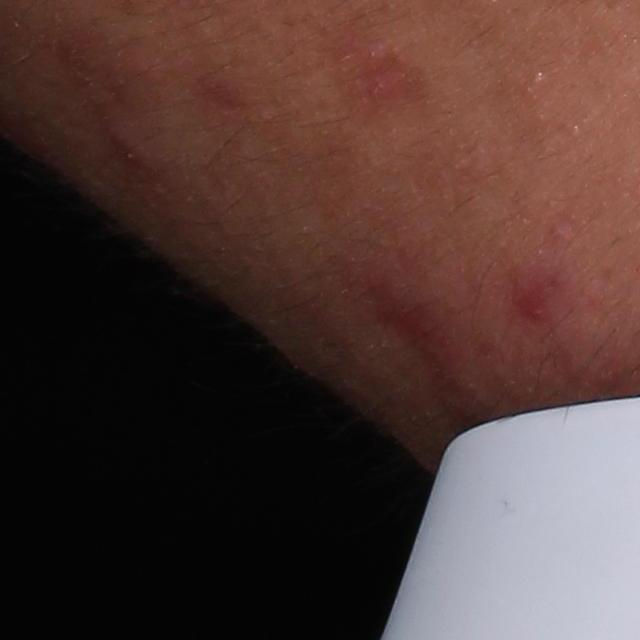papule: (502, 253, 579, 325), (107, 124, 159, 170)
